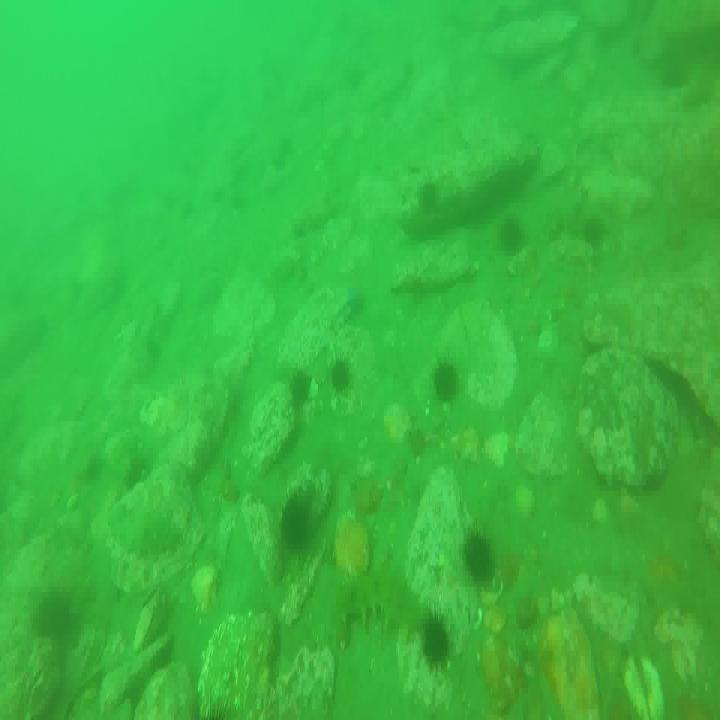echinus: (281, 493, 317, 554), (465, 532, 497, 590), (425, 612, 451, 673), (496, 216, 529, 264), (581, 208, 610, 257), (434, 356, 460, 407), (326, 353, 351, 398), (288, 369, 318, 402), (416, 182, 440, 218)
holothurian: (340, 573, 425, 628)
scallop: (481, 430, 512, 472)
